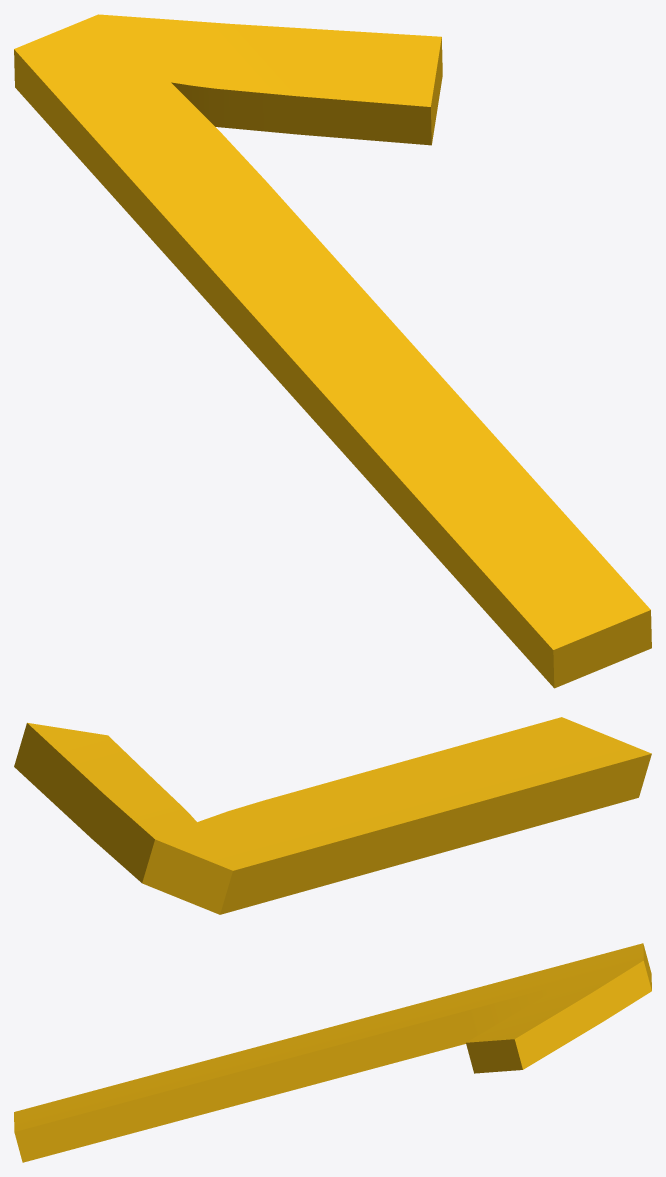
The model's file is Number_1.gltf.
3 views of the same model, one above another, from view 1: azimuth 30°, elevation 25°; view 2: azimuth 150°, elevation 25°; view 3: azimuth 270°, elevation 25° (orthographic). The views are drawn at different scales.
Visible parts, largest first — view 1: Sub_8_Cell_2_1_Number_1; view 2: Sub_8_Cell_2_1_Number_1; view 3: Sub_8_Cell_2_1_Number_1.
Part boxes in pixels (x1,y1,x2,y2): Sub_8_Cell_2_1_Number_1: [14, 14, 651, 688]; Sub_8_Cell_2_1_Number_1: [14, 717, 651, 914]; Sub_8_Cell_2_1_Number_1: [14, 943, 651, 1162].
Bounding box in the file's own units: 0.00939 × 0.00822 × 0.0246.
